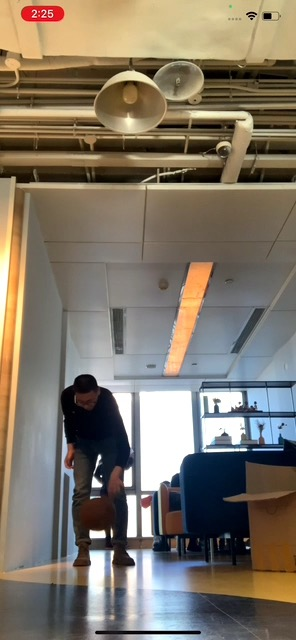ball: (80, 496, 118, 531)
